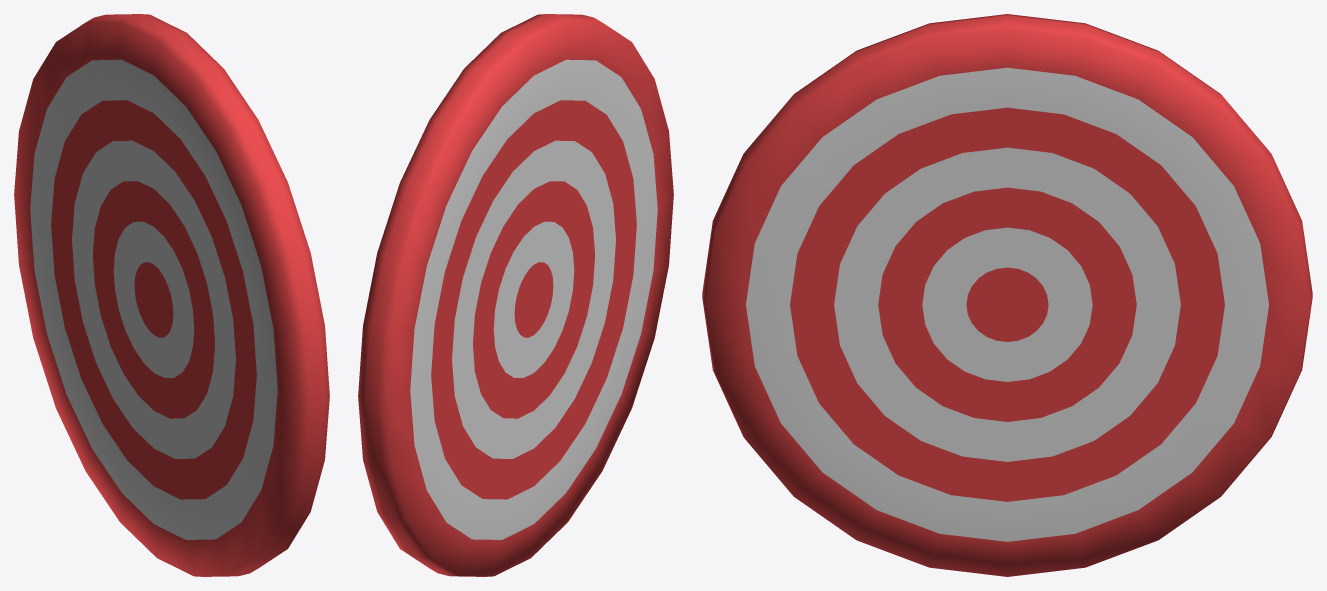
Rendered from en_target.glb.
3 views of the same model, side by side, from view 1: azimuth 30°, elevation 25°; view 2: azimuth 150°, elevation 25°; view 3: azimuth 270°, elevation 25° (orthographic). The views are drawn at different scales.
Parts seen in each view (by area): view 1: obj_target; view 2: obj_target; view 3: obj_target.
Boxes of the visible parts, bbox=[...] form: obj_target: bbox=[14, 14, 329, 576]; obj_target: bbox=[358, 14, 673, 576]; obj_target: bbox=[702, 14, 1312, 576].
Bounding box in the file's own units: 0.2 × 2.77 × 2.77.
